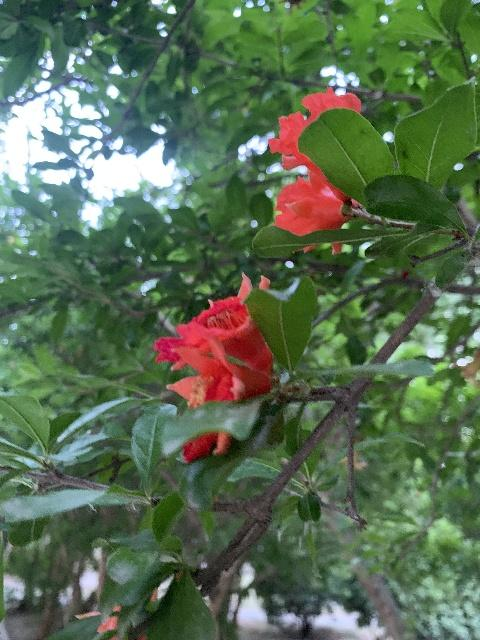flower: (165, 329, 270, 462), (154, 271, 273, 376), (268, 86, 363, 200), (272, 169, 360, 254)
